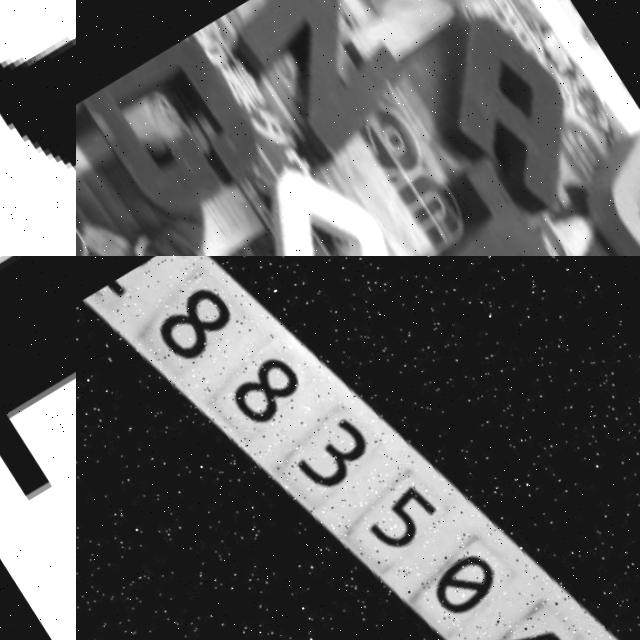0: (387, 520, 525, 640)
2: (83, 256, 199, 315)
3: (257, 389, 398, 515)
4: (456, 594, 586, 640)
5: (332, 460, 458, 573)
8: (117, 256, 267, 386), (191, 323, 330, 448)
A: (407, 5, 611, 233)
C: (563, 124, 640, 256)
G: (78, 31, 278, 236)
N: (217, 0, 428, 175)
P: (0, 256, 76, 495)
Q: (212, 143, 450, 256)
R: (0, 0, 76, 256)
T: (383, 150, 567, 256)
Z: (337, 0, 505, 49)
